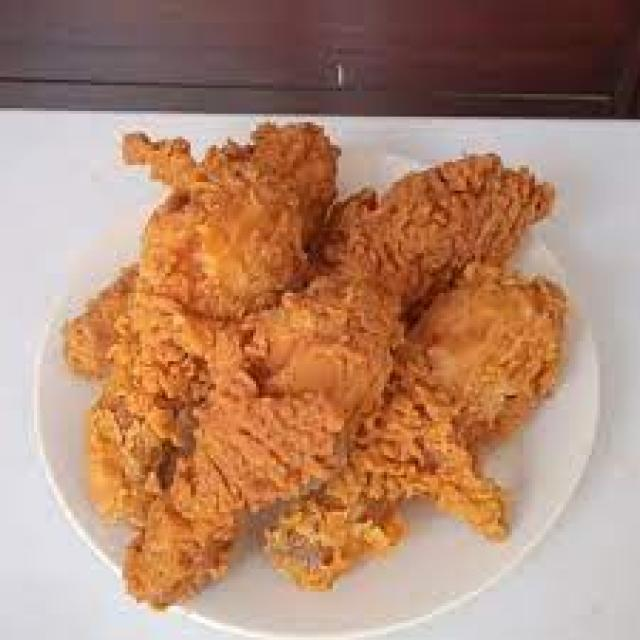Frango: (302, 260, 574, 550), (90, 362, 363, 578), (102, 122, 331, 314), (321, 150, 544, 327), (70, 271, 216, 397)
